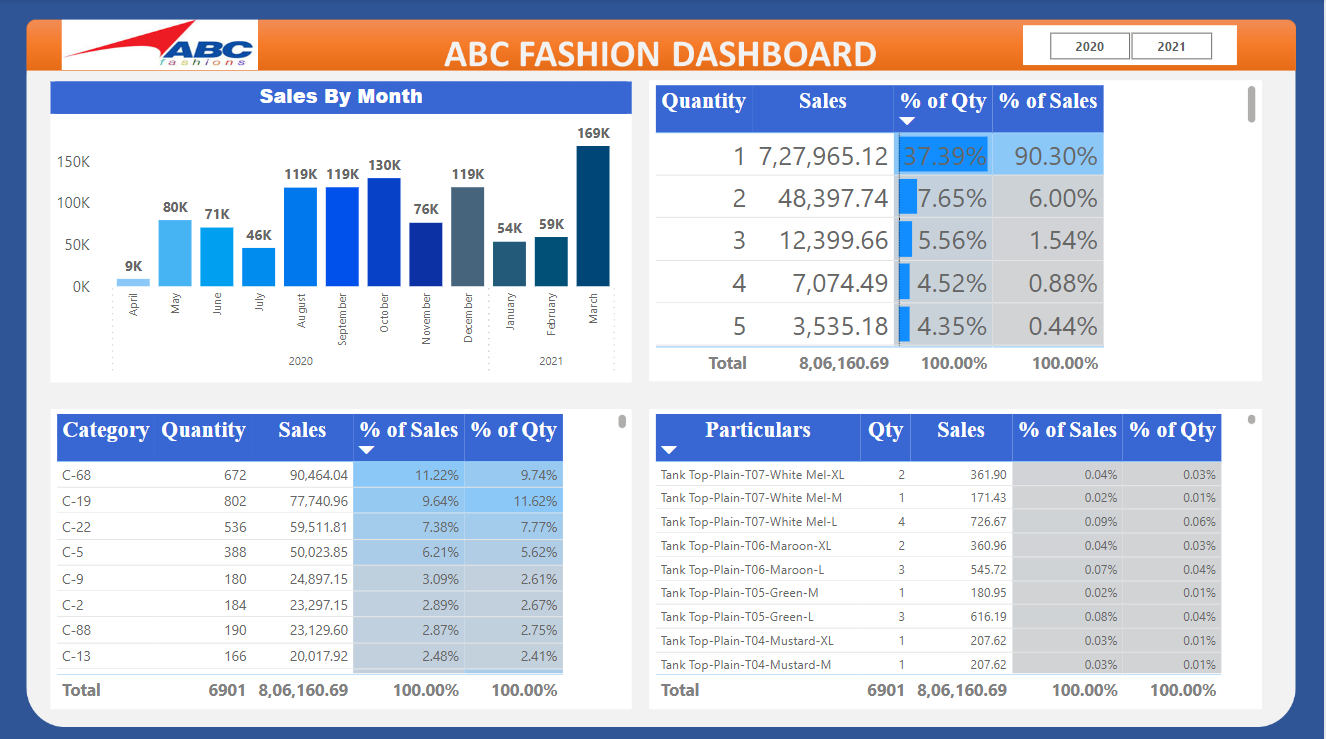

This screenshot's page, from the dashboard's own definition file:
{"tool":"powerbi","page":{"name":"Page 1","canvas":[1280,720],"ordinal":0},"visuals":[{"type":"lineStackedColumnComboChart","title":"Sales By Month","fields":{"Category":["Sheet1.Date.Variation.Date Hierarchy.Year","Sheet1.Date.Variation.Date Hierarchy.Month"],"Y":["Sum(Sheet1.Sales)"],"Series":["Sheet1.Date.Variation.Date Hierarchy.Month"]},"box":[50.7,79.6,560.8,290.7],"z":1000},{"type":"tableEx","fields":{"Values":["Sheet1.Quantity","Sum(Sheet1.Rate)","Sum(Sheet1.% of Total Quantity)","Sum(Sheet1.% of Total Sales)"]},"box":[628.3,78.4,591,290.7],"z":2000},{"type":"tableEx","fields":{"Values":["Sheet1.Consignee/Buyer","Sum(Sheet1.Quantity)","Sum(Sheet1.Rate)","Sum(Sheet1.% of Total Sales)","Sum(Sheet1.% of Total Quantity)"]},"box":[50.7,395.6,560.8,289.4],"z":3000},{"type":"tableEx","fields":{"Values":["Sheet1.Particulars","Sum(Sheet1.Quantity)","Sum(Sheet1.Rate)","Sum(Sheet1.% of Total Sales)","Sum(Sheet1.% of Total Quantity)"]},"box":[628.3,395.6,591,289.4],"z":4000},{"type":"slicer","fields":{"Values":["Sheet1.Date.Variation.Date Hierarchy.Year"]},"box":[988.9,25.3,206.2,38.6],"z":5000}]}

Visuals, with their boxes in screenshot pixels (x1, y1, x2, y2), scaled from the page's 1280x720 canvas onto the 1326x739 screenshot:
"Sales By Month" lineStackedColumnComboChart: (left=53, top=82, right=633, bottom=380)
tableEx - Sheet1.Quantity x Sum(Sheet1.Rate): (left=651, top=80, right=1263, bottom=379)
tableEx - Sheet1.Consignee/Buyer x Sum(Sheet1.Quantity): (left=53, top=406, right=633, bottom=703)
tableEx - Sheet1.Particulars x Sum(Sheet1.Quantity): (left=651, top=406, right=1263, bottom=703)
slicer - Sheet1.Date.Variation.Date Hierarchy.Year: (left=1024, top=26, right=1238, bottom=66)
